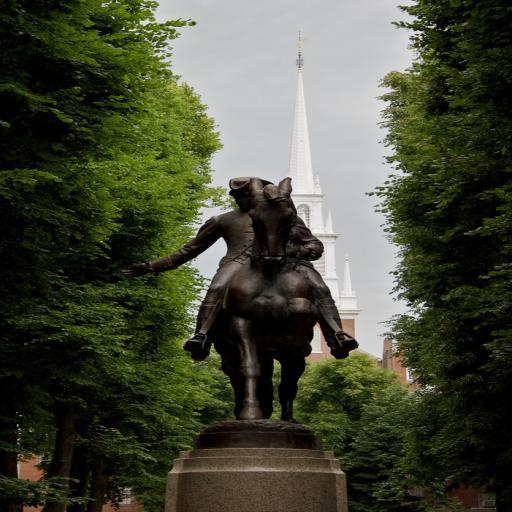horse: (215, 177, 321, 420)
